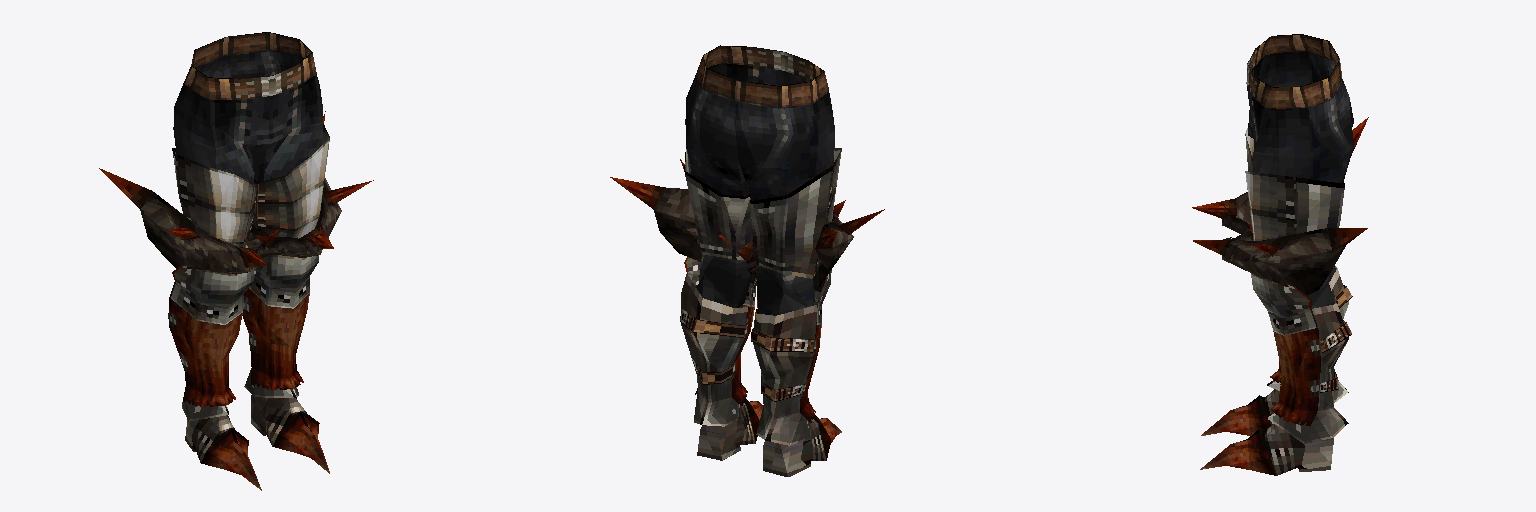
3 views of the same model, side by side, from view 1: azimuth 30°, elevation 25°; view 2: azimuth 150°, elevation 25°; view 3: azimuth 270°, elevation 25° (orthographic).
Parts seen in each view (by area): view 1: mesh00; view 2: mesh00; view 3: mesh00.
Part boxes in pixels (x1,y1,x2,y2): mesh00: (99,32,373,490); mesh00: (610,45,884,476); mesh00: (1192,34,1368,475).
Bounding box in the file's own units: 65.91 × 109 × 44.65.
1 materials, 1 textured.